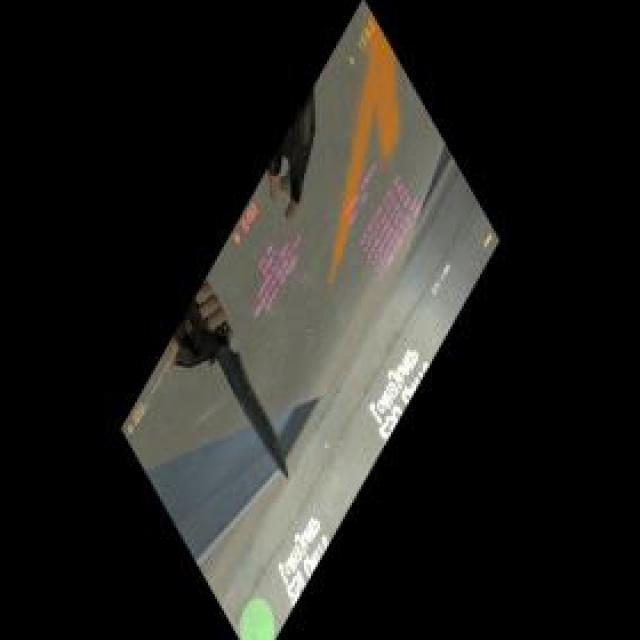knife: (196, 281, 290, 489)
